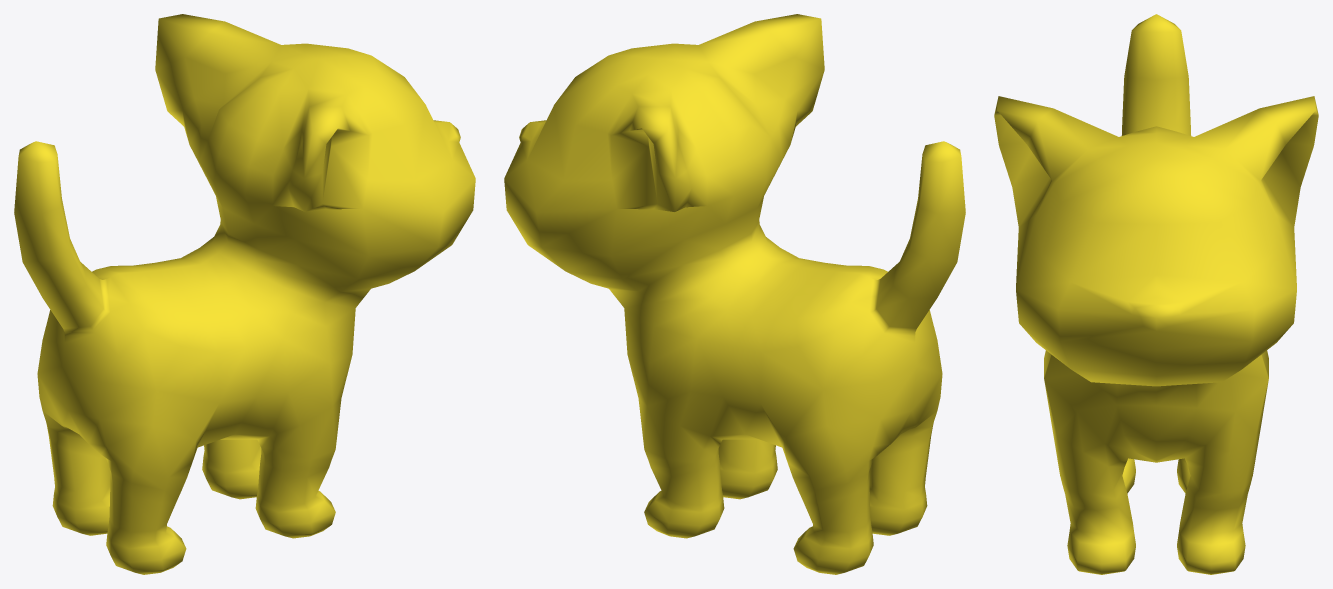
Rendered from HQ_CatFigure.fbx.
The picture shows the model from 3 angles, left to right: view 1: azimuth 30°, elevation 25°; view 2: azimuth 150°, elevation 25°; view 3: azimuth 270°, elevation 25°; orthographic projection. The views are drawn at different scales.
Visible parts, largest first — view 1: HQ_CatFigure; view 2: HQ_CatFigure; view 3: HQ_CatFigure.
Part boxes in pixels (box(x1,y1,x2,y2)): HQ_CatFigure: box(14, 14, 475, 574); HQ_CatFigure: box(504, 14, 965, 574); HQ_CatFigure: box(994, 14, 1318, 574).
Bounding box in the file's own units: 0.8645 × 0.8196 × 0.5349.
